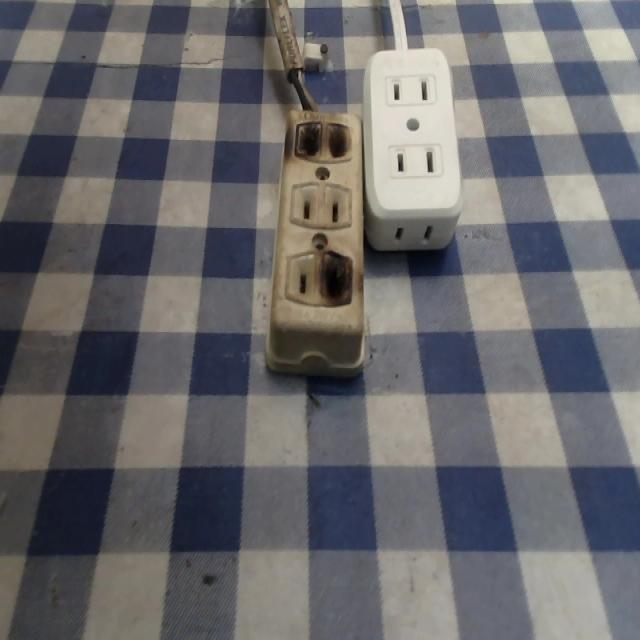-: (314, 247, 358, 316), (292, 117, 354, 164)
